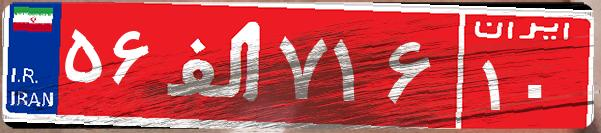0: (525, 38, 570, 115)
1: (330, 28, 385, 110), (475, 38, 525, 113)
5: (57, 26, 110, 107)
6: (385, 28, 445, 110), (110, 28, 158, 105)
7: (273, 28, 330, 110)
الف: (158, 15, 273, 115)
